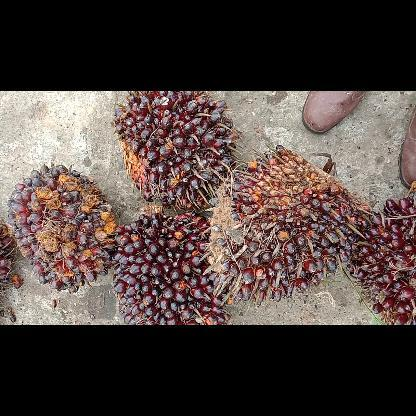Kurang masak: (206, 143, 370, 304), (109, 90, 241, 208), (5, 164, 121, 296), (112, 210, 234, 324), (354, 194, 414, 324)
